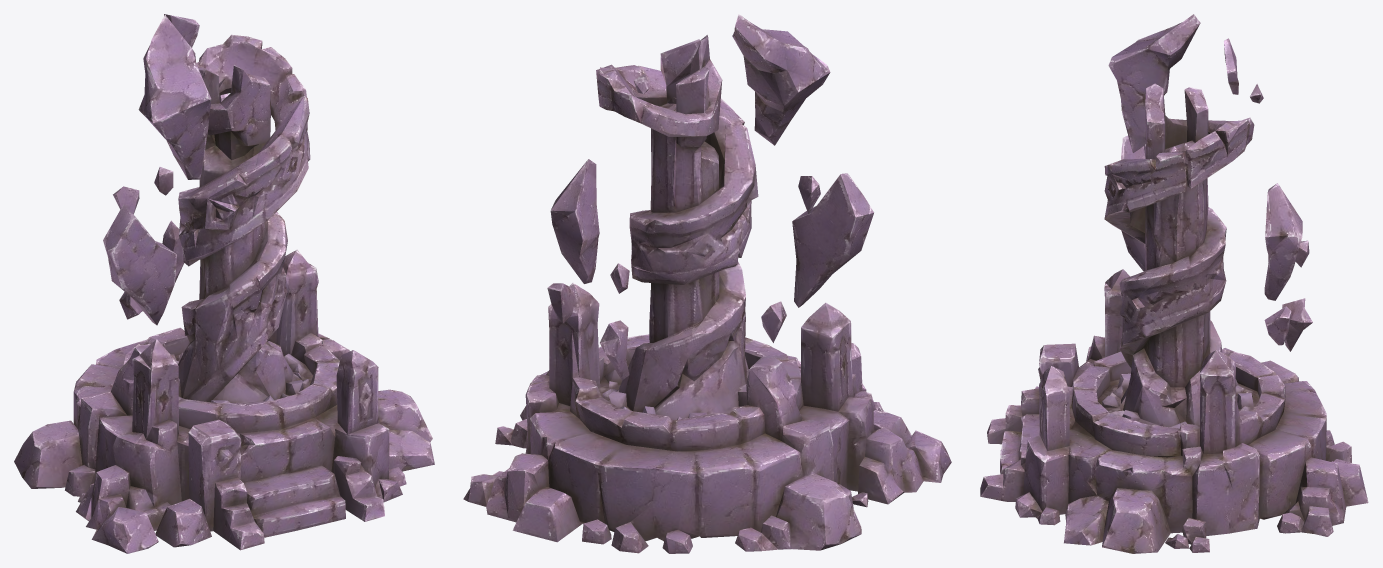
The model's file is shrine_chaos.glb.
3 views of the same model, side by side, from view 1: azimuth 30°, elevation 25°; view 2: azimuth 150°, elevation 25°; view 3: azimuth 270°, elevation 25° (orthographic). The views are drawn at different scales.
Parts seen in each view (by area): view 1: body; view 2: body; view 3: body.
Boxes of the visible parts, x1,y1,x2,y2 form: body: [14, 14, 434, 553]; body: [463, 14, 951, 553]; body: [980, 14, 1368, 553].
Bounding box in the file's own units: 1.83 × 2.2 × 1.78.
1 material, 1 textured.
